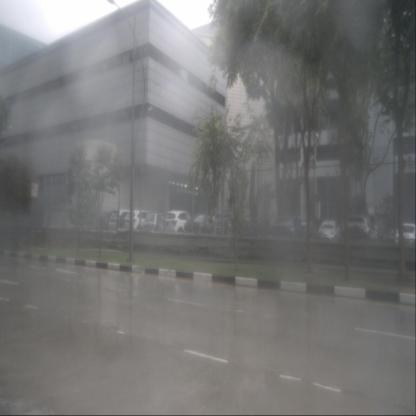vehicle-car: (185, 212, 228, 242), (268, 214, 310, 242), (161, 209, 196, 239), (143, 212, 175, 238), (341, 214, 371, 240), (124, 210, 155, 235), (108, 209, 134, 233), (395, 222, 415, 253), (318, 219, 341, 245)
